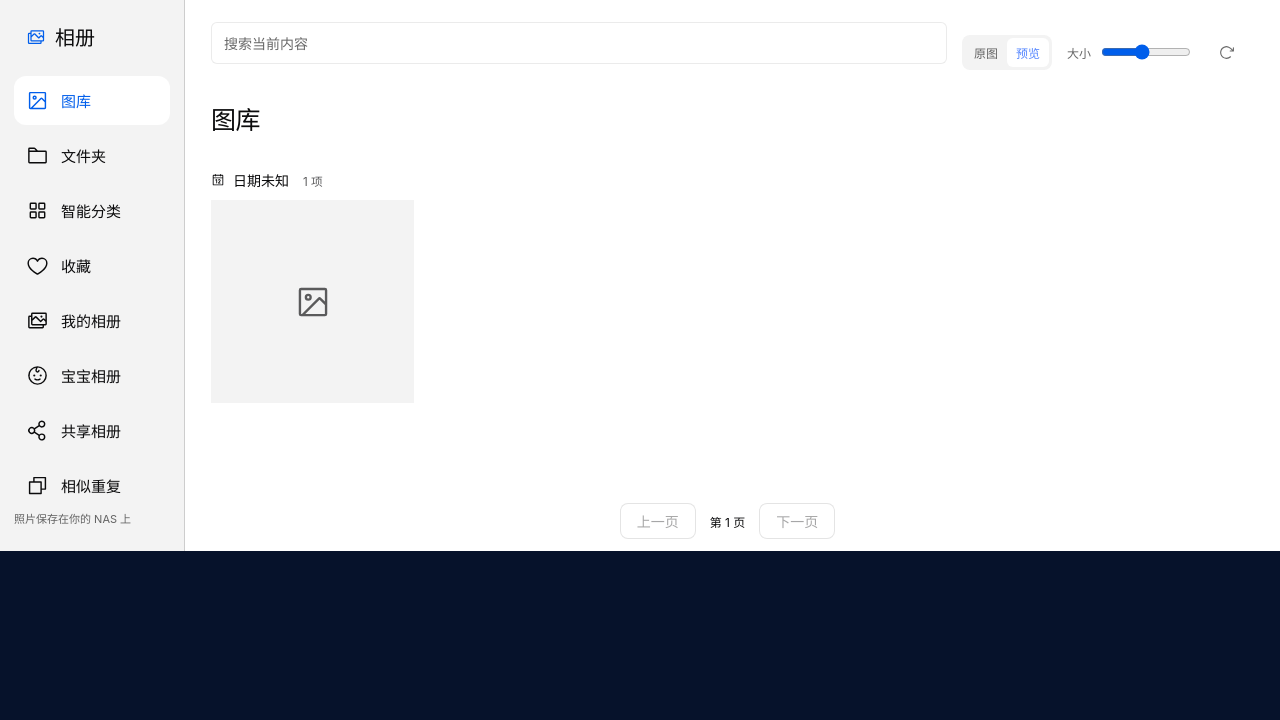
opens the shared large preview from photos
Click the button named "First.jpg" at (313, 302), box left=211, top=200, right=414, bottom=403
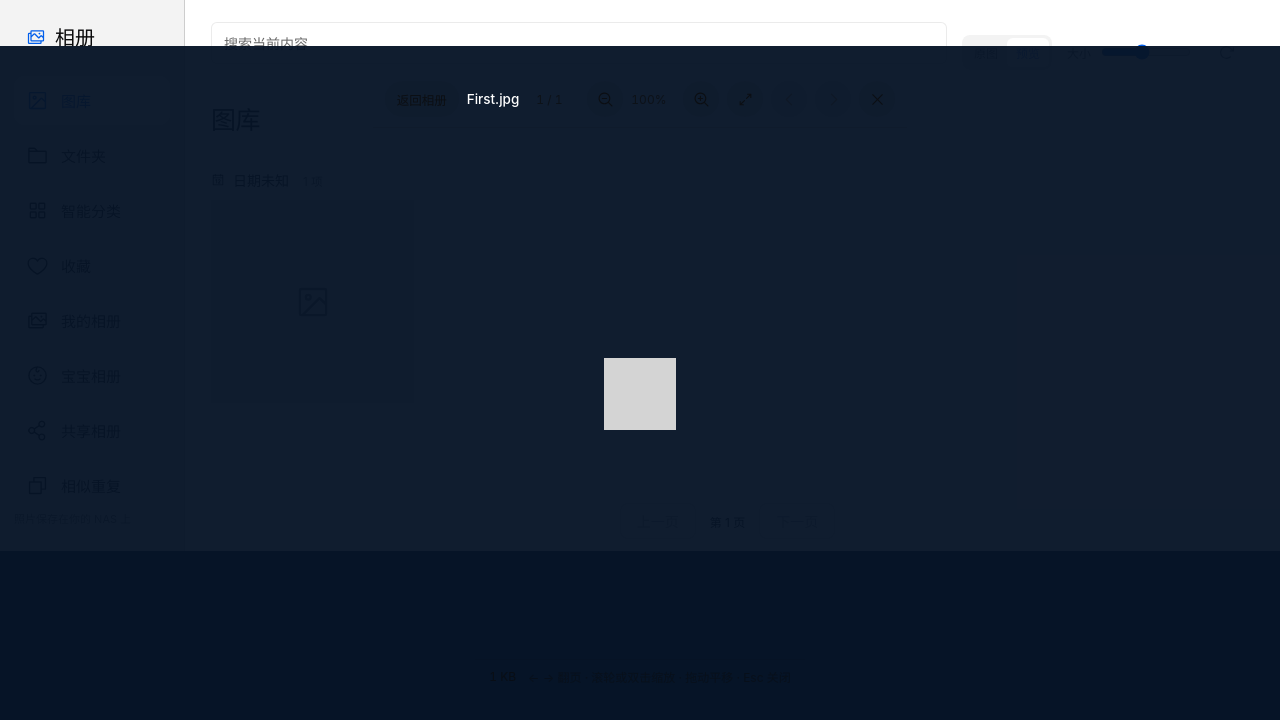
expect the dialog is shown: met
